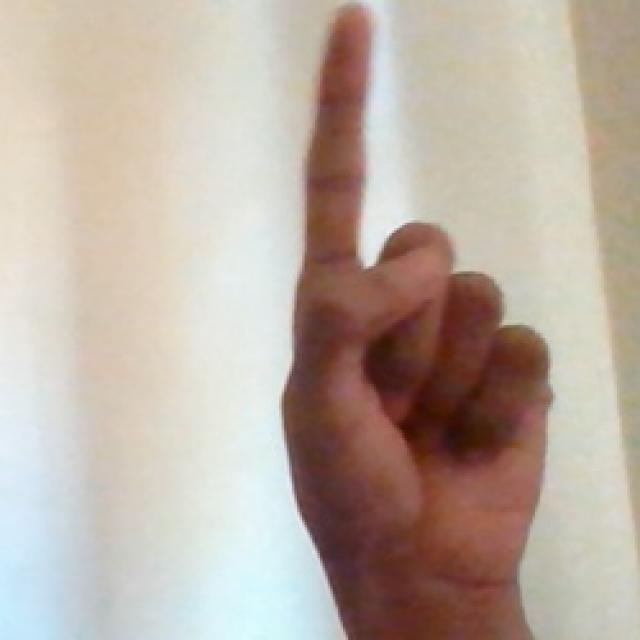Numeric-1: (286, 8, 544, 597)
